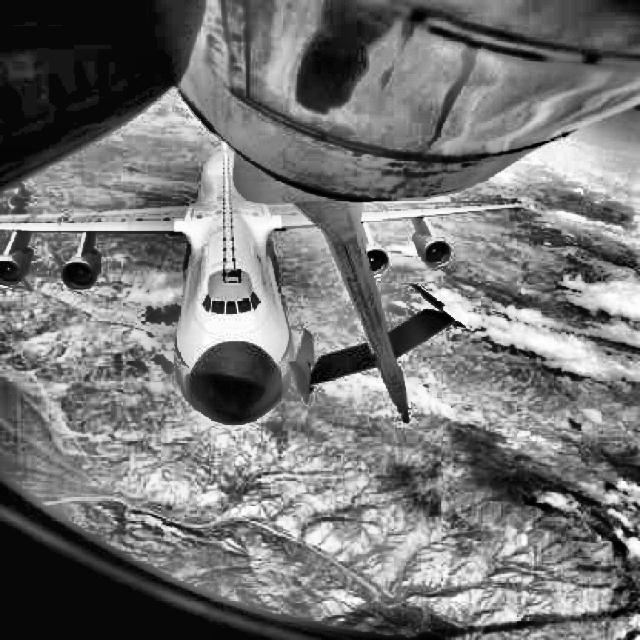C5: (0, 140, 522, 426)
